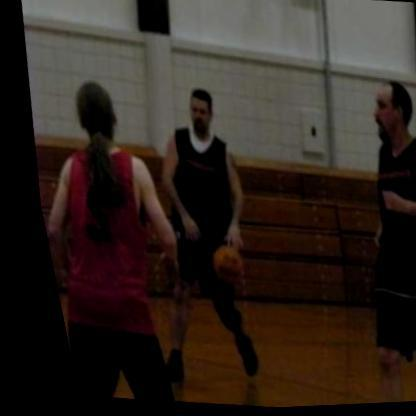basketball: (189, 238, 242, 289)
